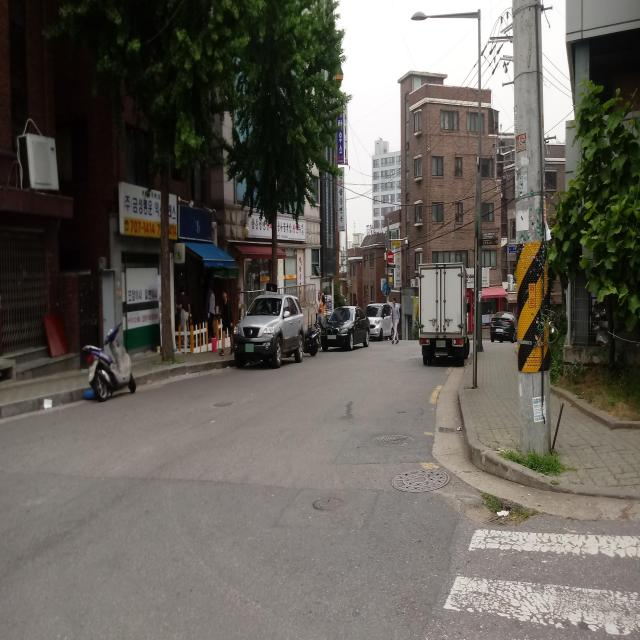횡단보도: (442, 526, 640, 638)
